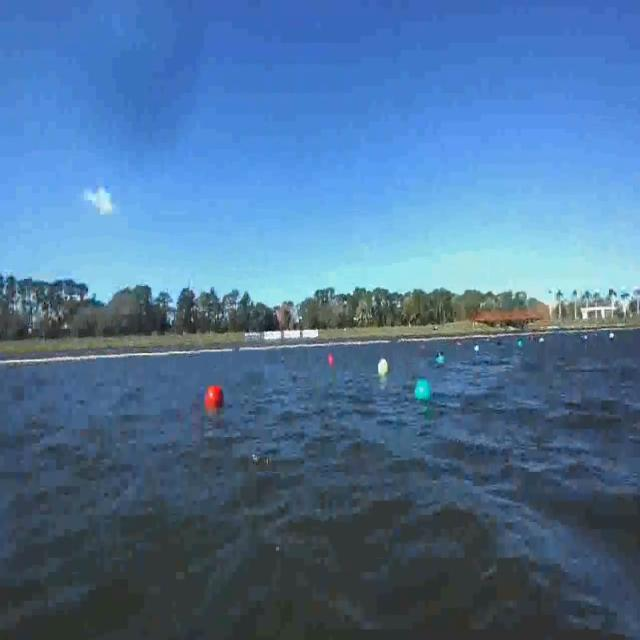green-buoy: (415, 377, 433, 400), (435, 350, 444, 366)
red-buoy: (206, 384, 224, 408)
red-column-buoy: (328, 353, 334, 366)
yellow-buoy: (380, 359, 390, 374)
